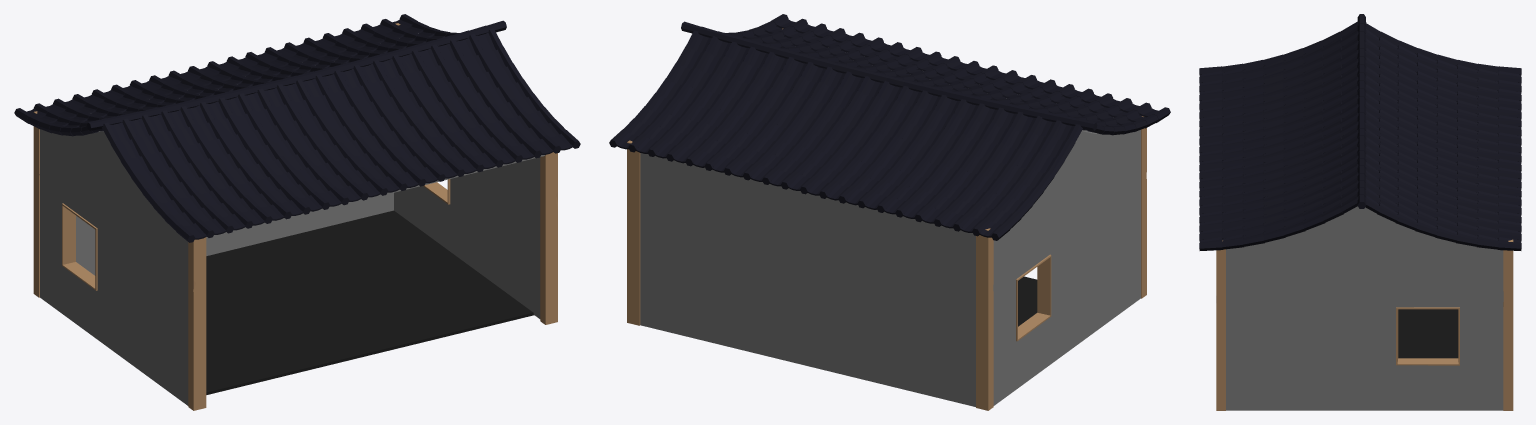
File: SM_ramenshop_base.fbx
The picture shows the model from 3 angles, left to right: view 1: azimuth 30°, elevation 25°; view 2: azimuth 150°, elevation 25°; view 3: azimuth 270°, elevation 25°; orthographic projection. The views are drawn at different scales.
Parts seen in each view (by area): view 1: Object036; view 2: Object036; view 3: Object036.
Part boxes in pixels (x1,y1,x2,y2): Object036: (14,14,580,410); Object036: (609,14,1170,410); Object036: (1199,14,1521,410).
Bounding box in the file's own units: 364 × 263 × 199.
